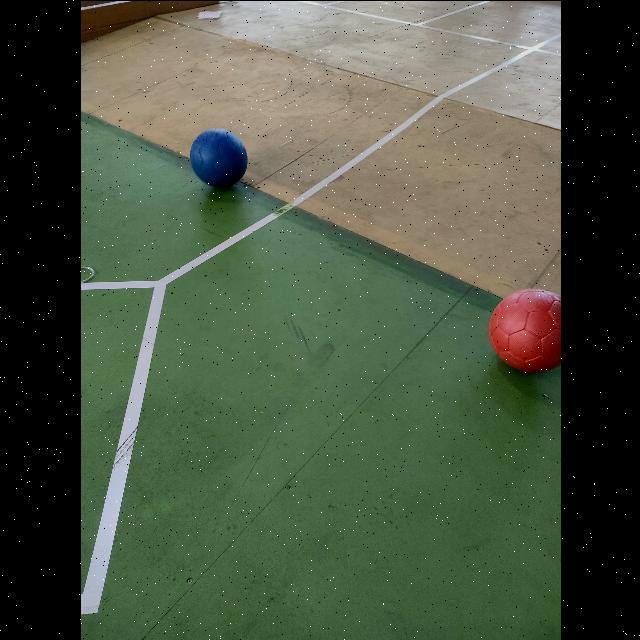B: (189, 128, 246, 187)
R: (489, 288, 560, 371)
